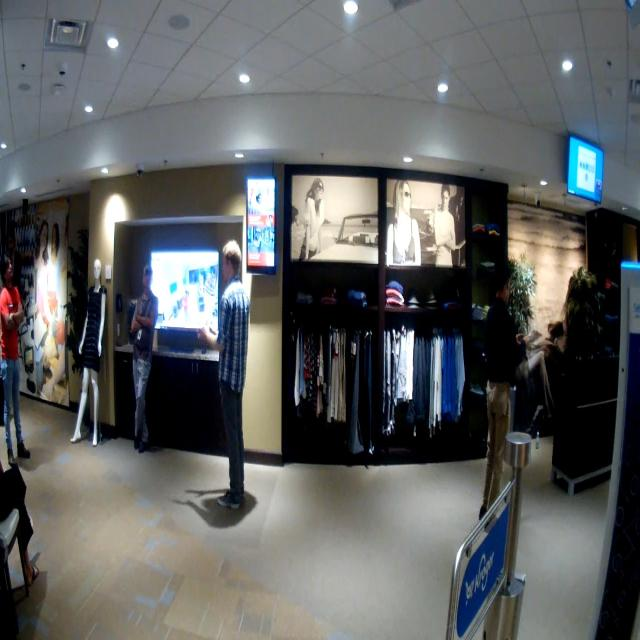normal: (210, 230, 256, 531), (477, 248, 518, 558), (0, 249, 46, 480), (124, 251, 167, 460)
